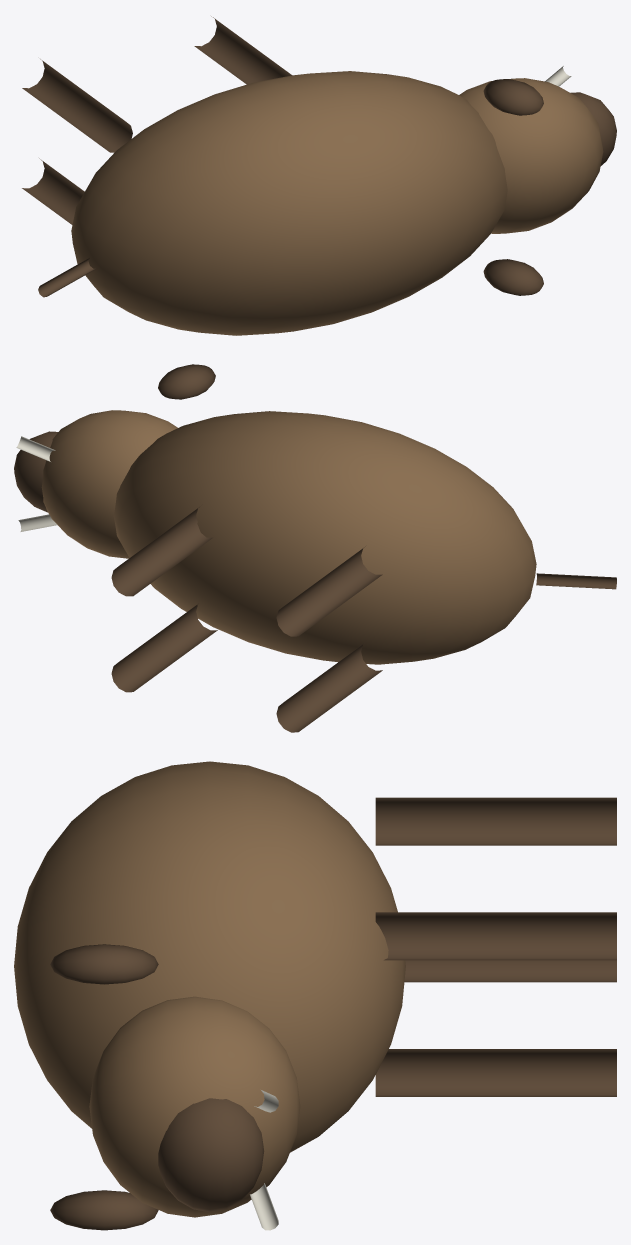
The model's file is wild_boar.glb.
3 renders of one model, top to bottom at view 1: azimuth 30°, elevation 25°; view 2: azimuth 150°, elevation 25°; view 3: azimuth 270°, elevation 25°, orthographic. The views are drawn at different scales.
Size of the model in its own units: 3.13 by 1.1 by 2.
